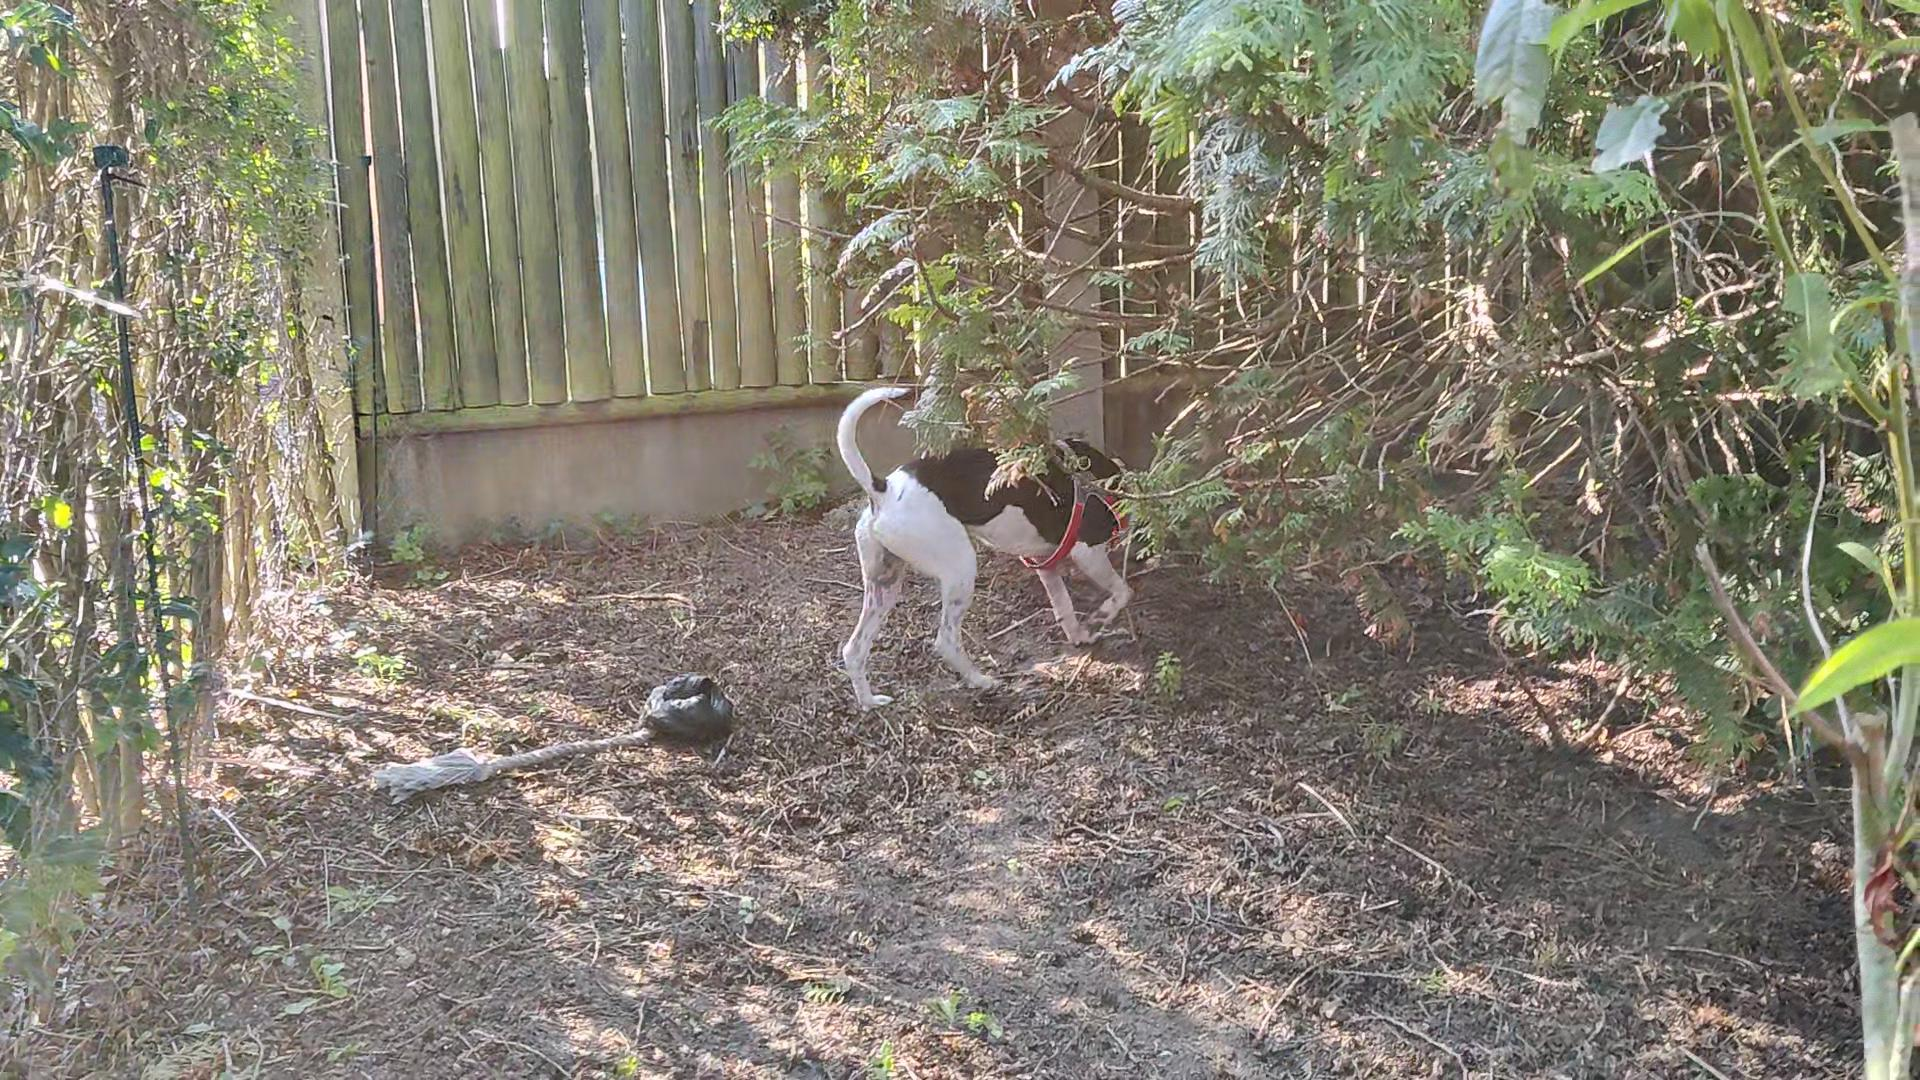Dog: (810, 382, 1174, 704)
